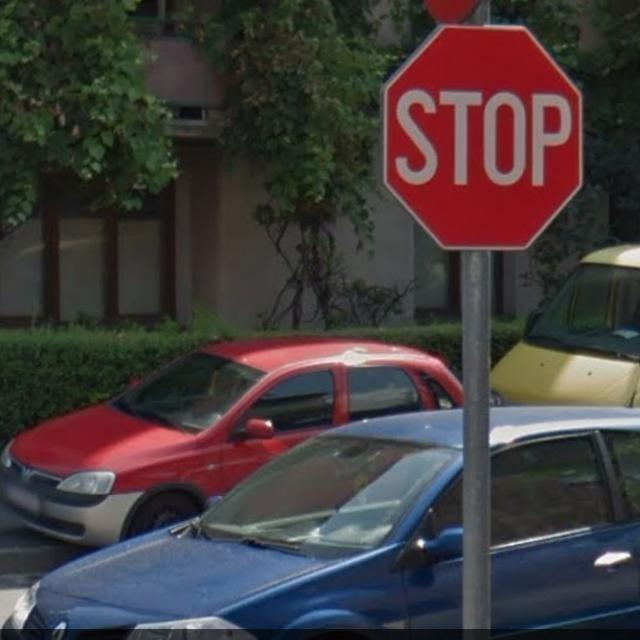prio_stop: (378, 25, 583, 248)
